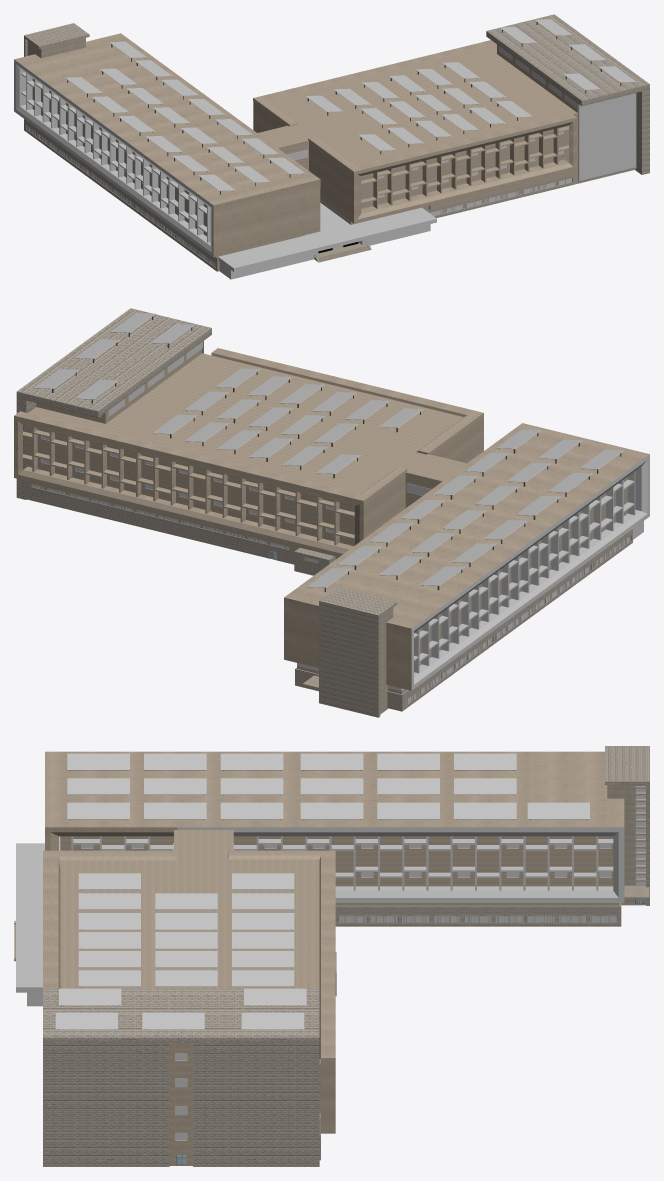
The model's file is biology final_fbx.fbx.
3 views of the same model, one above another, from view 1: azimuth 30°, elevation 25°; view 2: azimuth 150°, elevation 25°; view 3: azimuth 270°, elevation 25° (orthographic). The views are drawn at different scales.
Parts seen in each view (by area): view 1: Shape040, Group001, Shape037, Shape042; view 2: Shape040, Group001, Shape037, Shape042; view 3: Shape040, Group001, Shape037.
Part boxes in pixels (<box>): Shape040: <box>14,14,649,279</box>; Group001: <box>26,19,636,275</box>; Shape037: <box>21,72,210,242</box>; Shape042: <box>361,126,568,208</box>; Shape040: <box>14,308,649,717</box>; Group001: <box>32,313,642,705</box>; Shape037: <box>414,471,635,673</box>; Shape042: <box>23,427,354,545</box>; Shape040: <box>14,746,649,1166</box>; Group001: <box>14,753,645,1164</box>; Shape037: <box>71,836,613,890</box>.
Size of the model in its own units: 18217 by 3749 by 15870.
